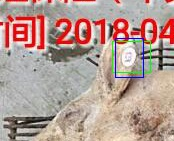text: (112, 41, 150, 72)
